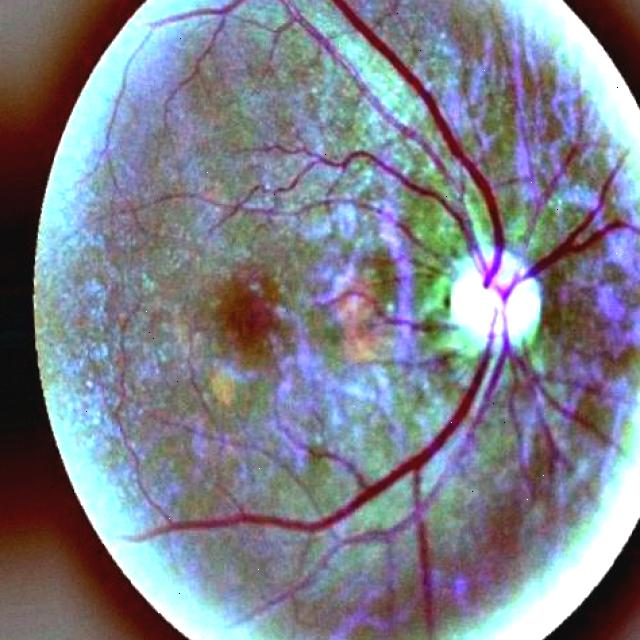Macula: (215, 277, 281, 366)
Nerves: (130, 0, 640, 631), (275, 0, 452, 181), (378, 294, 458, 339), (394, 344, 458, 369)
Optic Disk: (451, 251, 541, 354)
